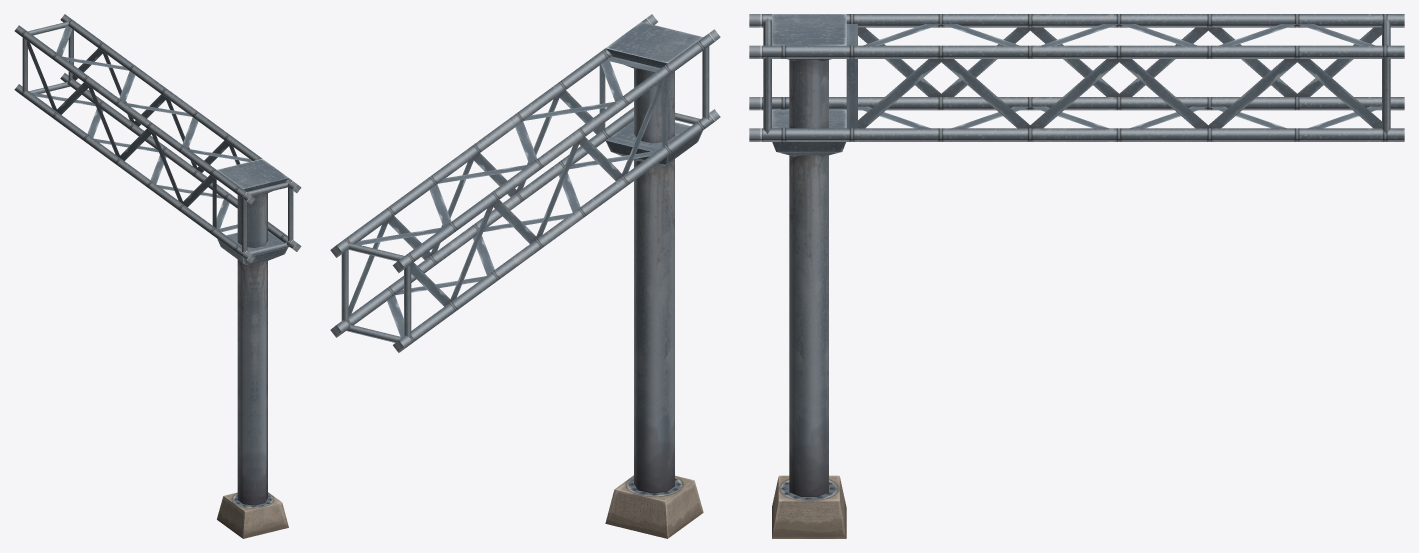
Rendered from trafficSign_HWay_overhead01.fbx.
The picture shows the model from 3 angles, left to right: view 1: azimuth 30°, elevation 25°; view 2: azimuth 150°, elevation 25°; view 3: azimuth 270°, elevation 25°; orthographic projection. The views are drawn at different scales.
Parts seen in each view (by area): view 1: trafficSign_HWay_overhead01; view 2: trafficSign_HWay_overhead01; view 3: trafficSign_HWay_overhead01.
Part boxes in pixels (x1,y1,x2,y2): trafficSign_HWay_overhead01: [14, 14, 301, 538]; trafficSign_HWay_overhead01: [330, 14, 720, 538]; trafficSign_HWay_overhead01: [749, 14, 1404, 538].
Bounding box in the file's own units: 118 × 714 × 860.
